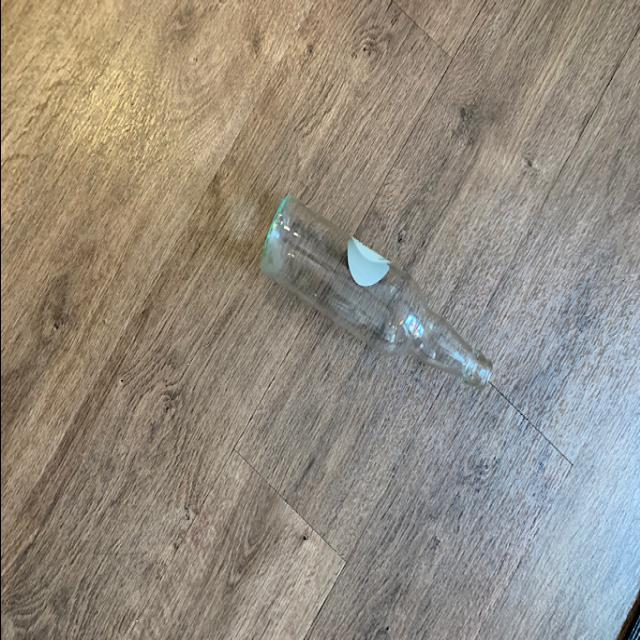litter: (250, 190, 498, 399)
